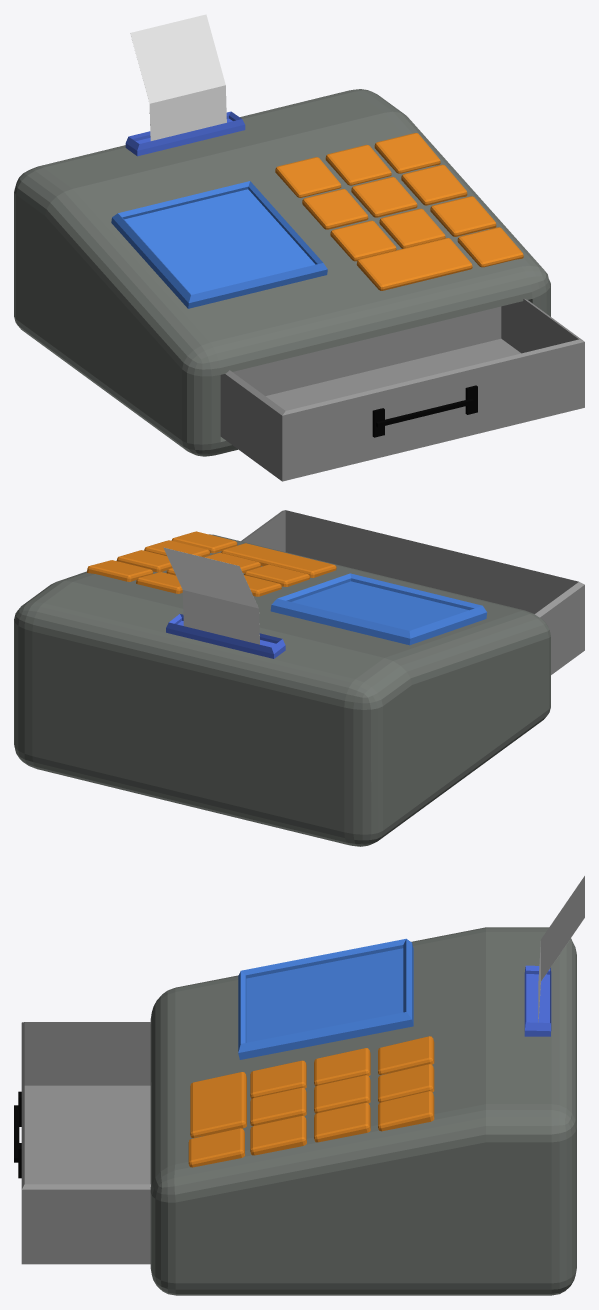
File: CashRegisterBody.fbx
3 renders of one model, top to bottom at view 1: azimuth 30°, elevation 25°; view 2: azimuth 150°, elevation 25°; view 3: azimuth 270°, elevation 25°, orthographic. The views are drawn at different scales.
Parts seen in each view (by area): view 1: CashRegisterBody, CashRegisterTray, CashRegisterButtons, CashRegisterScreen, CashRegisterReceipt, CashRegisterReceiptSlot, CashRegisterTrayHandle; view 2: CashRegisterBody, CashRegisterTray, CashRegisterScreen, CashRegisterButtons, CashRegisterReceipt, CashRegisterReceiptSlot; view 3: CashRegisterBody, CashRegisterTray, CashRegisterButtons, CashRegisterScreen, CashRegisterReceipt, CashRegisterReceiptSlot, CashRegisterTrayHandle.
Boxes of the visible parts, <box> form: CashRegisterBody: <box>14,89,550,456</box>; CashRegisterTray: <box>220,298,584,481</box>; CashRegisterButtons: <box>275,133,523,290</box>; CashRegisterScreen: <box>111,181,327,308</box>; CashRegisterReceipt: <box>130,14,226,140</box>; CashRegisterReceiptSlot: <box>125,111,245,156</box>; CashRegisterTrayHandle: <box>372,385,477,437</box>; CashRegisterBody: <box>14,534,550,846</box>; CashRegisterTray: <box>241,510,584,674</box>; CashRegisterScreen: <box>270,573,487,645</box>; CashRegisterButtons: <box>87,531,336,596</box>; CashRegisterReceipt: <box>163,547,259,644</box>; CashRegisterReceiptSlot: <box>166,614,285,658</box>; CashRegisterBody: <box>150,927,576,1295</box>; CashRegisterTray: <box>21,1022,150,1264</box>; CashRegisterButtons: <box>188,1036,434,1167</box>; CashRegisterScreen: <box>238,938,413,1059</box>; CashRegisterReceipt: <box>538,876,584,1022</box>; CashRegisterReceiptSlot: <box>524,965,551,1036</box>; CashRegisterTrayHandle: <box>14,1091,21,1178</box>.
Size of the model in its own units: 51.28 by 61.07 by 35.3.
